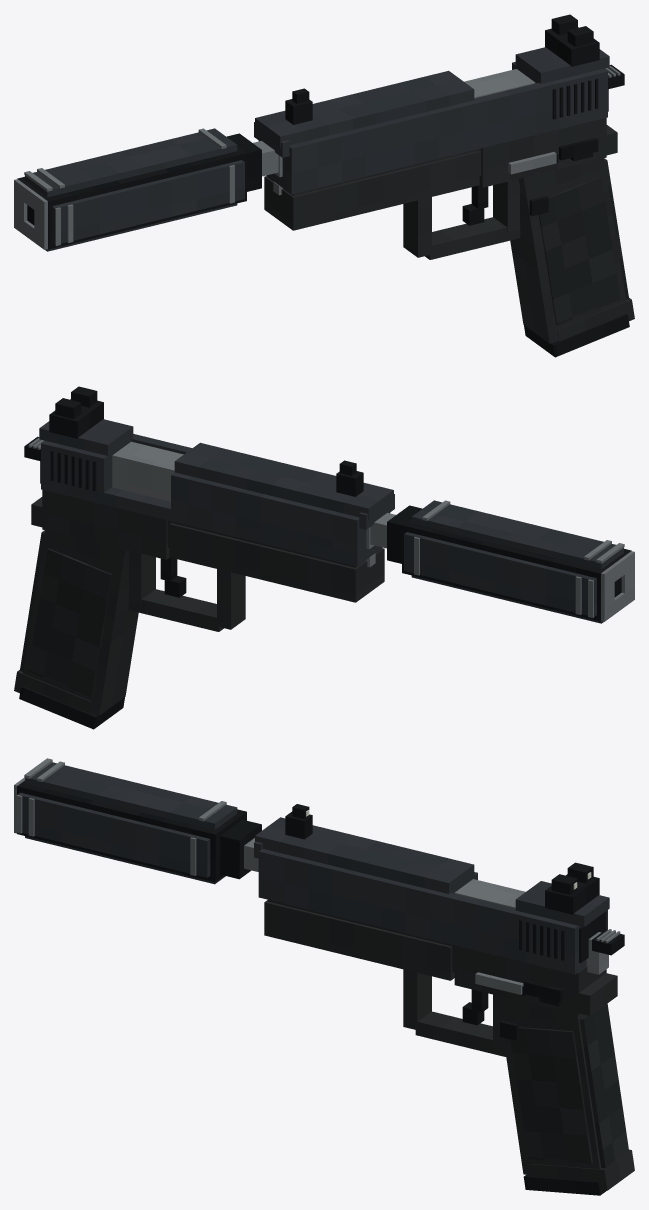
File: USP_Suppressed.glb
The picture shows the model from 3 angles, top to bottom: view 1: azimuth 30°, elevation 25°; view 2: azimuth 150°, elevation 25°; view 3: azimuth 330°, elevation 25°; orthographic projection.
Visible parts, largest first — view 1: Slide left wall, Stipple panel -1, Reinforced dust cover, Suppressor side flats, Tactical slide crown front, Grip core, Suppressor vertical flats, Rear receiver, Suppressor core, Trigger guard lower, Tactical slide crown rear, Trigger guard front (+14 smaller); view 2: Stipple panel 1, Reinforced dust cover, Slide front block, Suppressor side flats, Grip core, Tactical slide crown front, Suppressor vertical flats, Rear receiver, Slide lower rail, Suppressor core, Chamber block, Slide rear block (+15 smaller); view 3: Slide left wall, Stipple panel -1, Suppressor side flats, Tactical slide crown front, Reinforced dust cover, Suppressor vertical flats, Backstrap, Grip core, Rear receiver, Suppressor core, Trigger guard lower, Tactical slide crown rear (+9 smaller).
Boxes of the visible parts, x1,y1,x2,y2 form: Slide left wall: [286, 68, 607, 194]; Stipple panel -1: [539, 176, 620, 325]; Reinforced dust cover: [264, 151, 479, 230]; Suppressor side flats: [52, 160, 244, 244]; Tactical slide crown front: [255, 70, 474, 147]; Grip core: [510, 158, 625, 343]; Suppressor vertical flats: [25, 128, 237, 251]; Rear receiver: [479, 118, 606, 187]; Suppressor core: [17, 146, 246, 249]; Trigger guard lower: [425, 217, 520, 259]; Tactical slide crown rear: [515, 47, 609, 83]; Trigger guard front: [403, 197, 431, 257]; Stipple panel 1: [28, 548, 112, 697]; Reinforced dust cover: [169, 523, 384, 602]; Slide front block: [171, 472, 366, 554]; Suppressor side flats: [404, 532, 596, 616]; Grip core: [23, 530, 138, 715]; Tactical slide crown front: [174, 442, 393, 519]; Suppressor vertical flats: [411, 500, 623, 623]; Rear receiver: [42, 490, 169, 559]; Slide lower rail: [41, 477, 382, 566]; Suppressor core: [402, 518, 631, 621]; Chamber block: [112, 441, 183, 501]; Slide rear block: [41, 439, 131, 492]; Slide left wall: [258, 848, 580, 974]; Stipple panel -1: [511, 1027, 592, 1163]; Suppressor side flats: [18, 792, 210, 877]; Tactical slide crown front: [255, 817, 474, 893]; Reinforced dust cover: [264, 900, 454, 980]; Suppressor vertical flats: [25, 762, 237, 884]; Backstrap: [579, 1003, 628, 1168]; Grip core: [497, 995, 601, 1174]; Rear receiver: [454, 945, 606, 1015]; Suppressor core: [17, 780, 246, 882]; Trigger guard lower: [415, 1011, 506, 1056]; Tactical slide crown rear: [515, 881, 609, 926].
Size of the model in its own units: 0.3369 by 0.1705 by 0.0392.
Materials: 1 (1 with a texture image).
